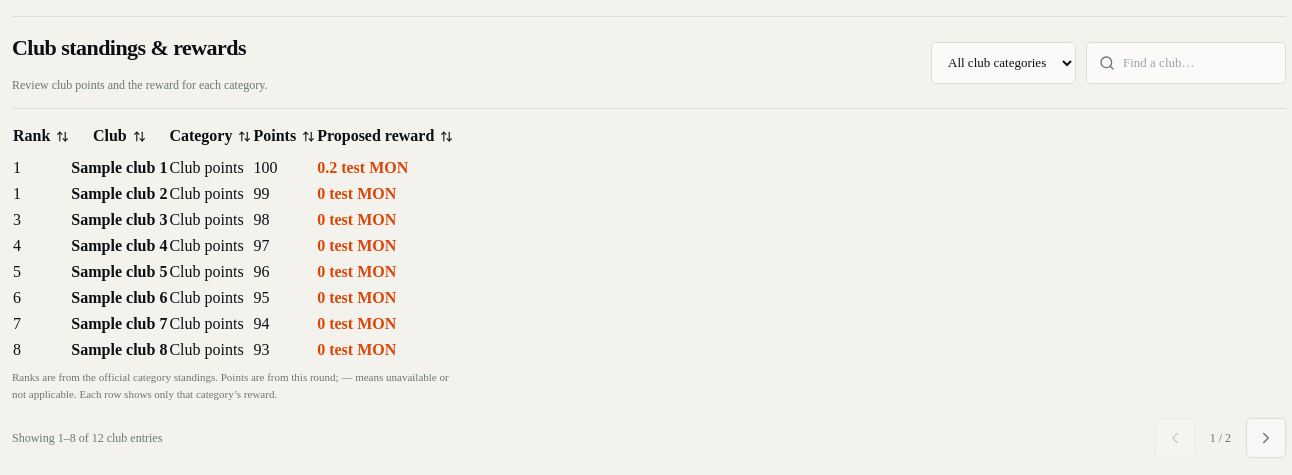
Scenario: shows the full styled club standings with independent search, category filtering and paging
Expected: the column heading "Points" is shown, [252,117,316,155]
Expected: the column heading "Sample club 1" is shown, [70,155,168,181]
Click the button named "Next club results".
click(1266, 438)  # box [1246,418,1286,458]
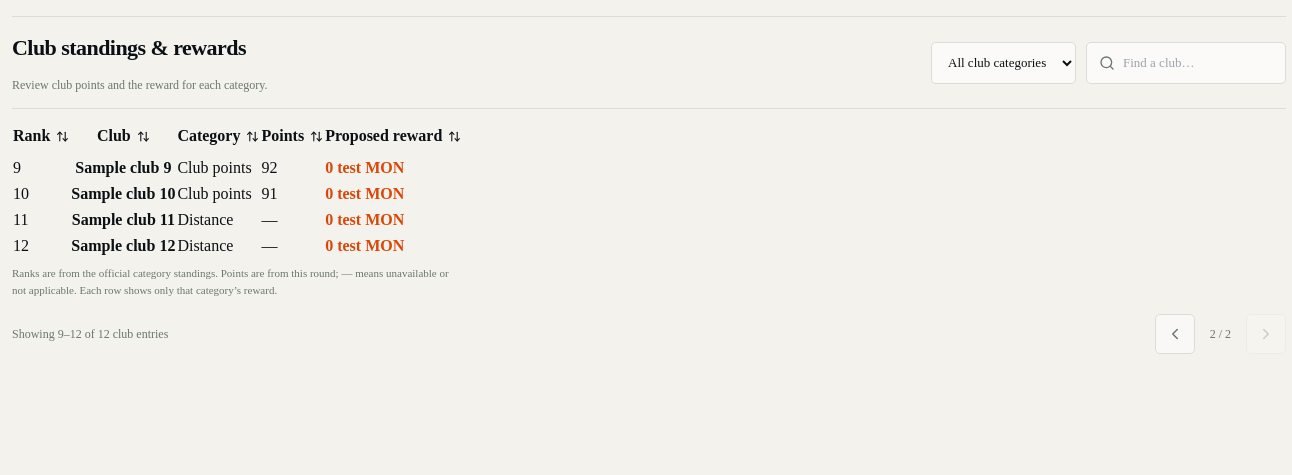
Expected: the column heading "Sample club 9" is shown, [70,155,176,181]
Select "Distance" in the dropdown named "Club category" at (1004, 62), box [931,42,1076,84]
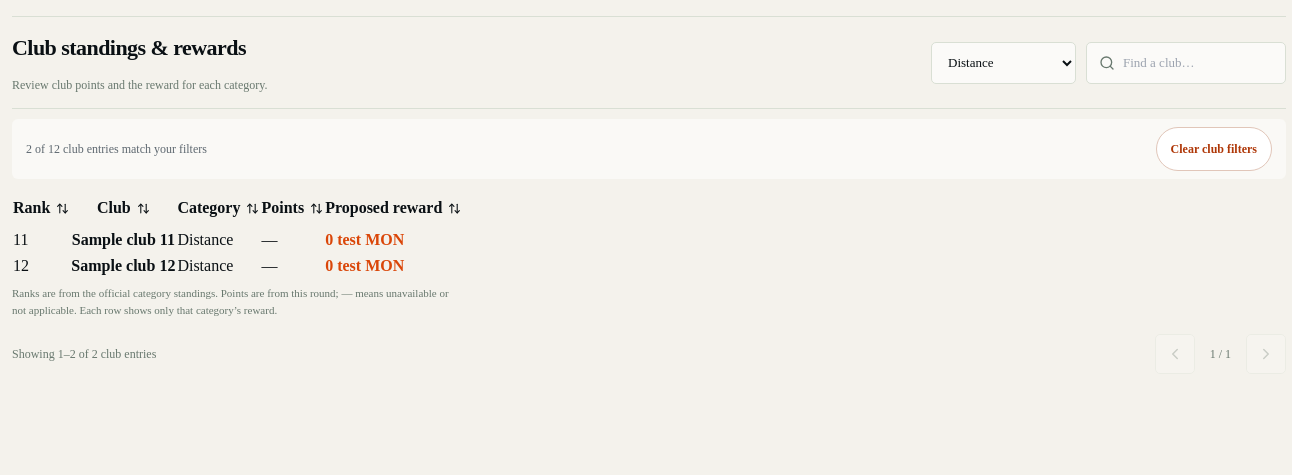
Expected: the text "Showing 1–2 of 2 club entries" is shown, [12,345,156,363]
Type "12" into the field labelled "Find a club".
click(1198, 63); type("12")  # box [1123,53,1273,72]
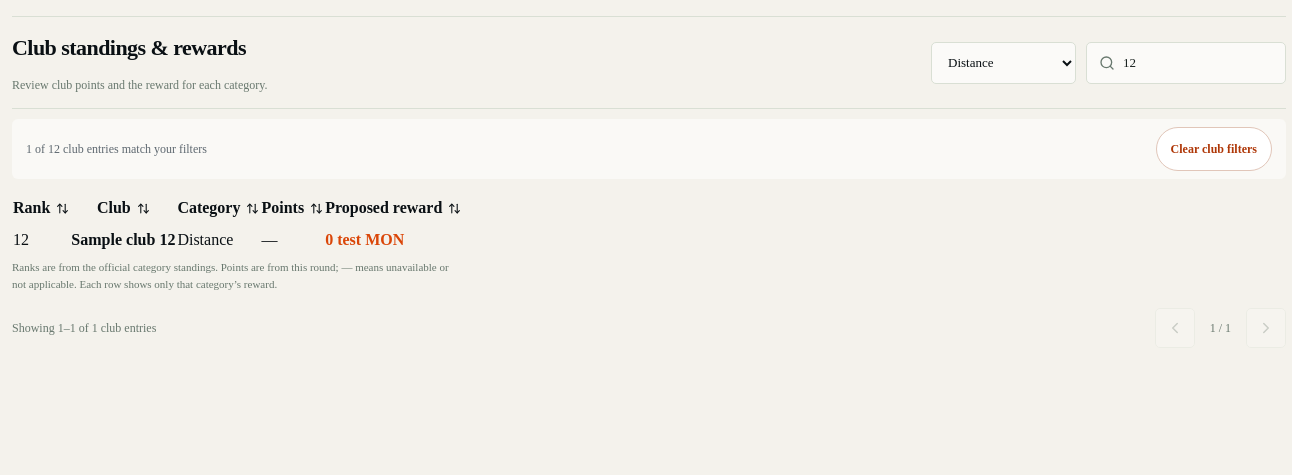
Expected: the column heading "Sample club 12" is shown, [70,227,176,253]
Expected: the column heading "Sample club 11" is gone
Replace the text in the field named "Find a club" with "missing" at (1198, 63), box [1123,53,1273,72]
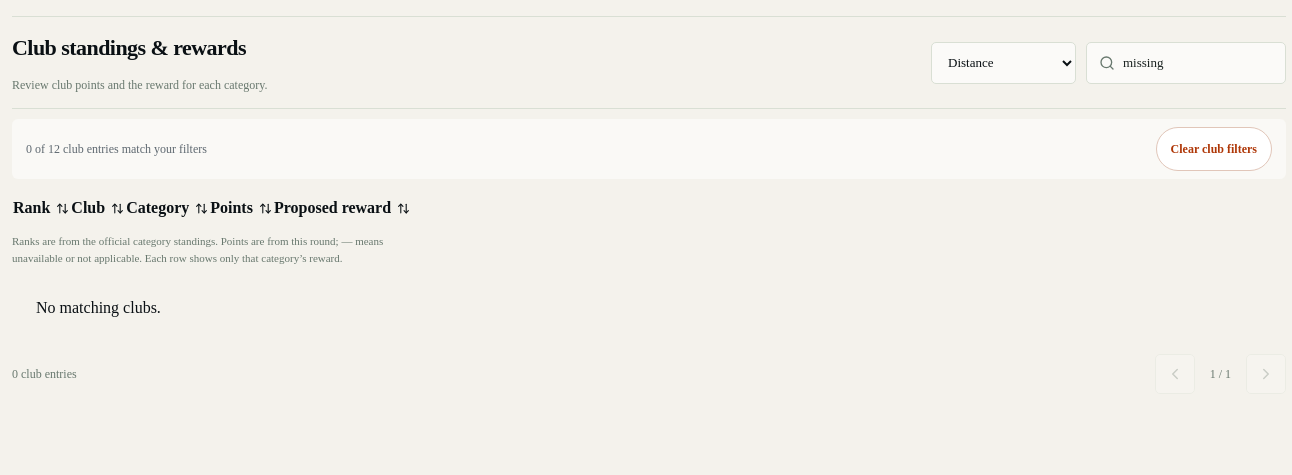
Expected: the message shows "No matching clubs", [36,299,161,316]
